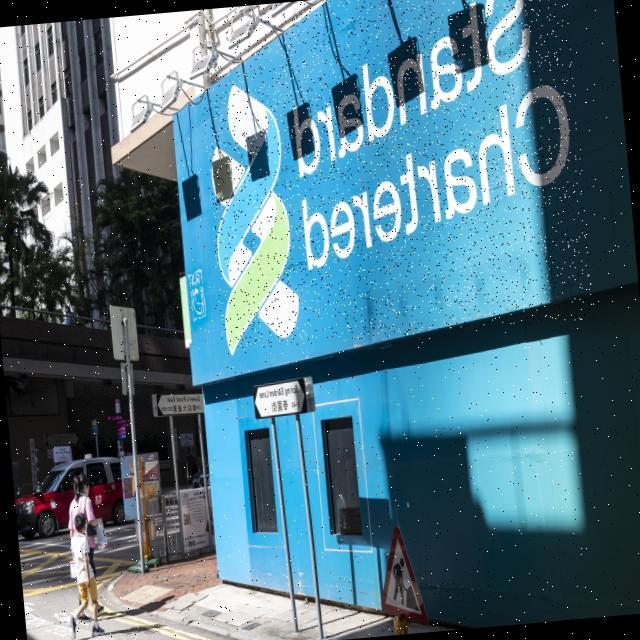Standard Chartered: (192, 0, 594, 350)
